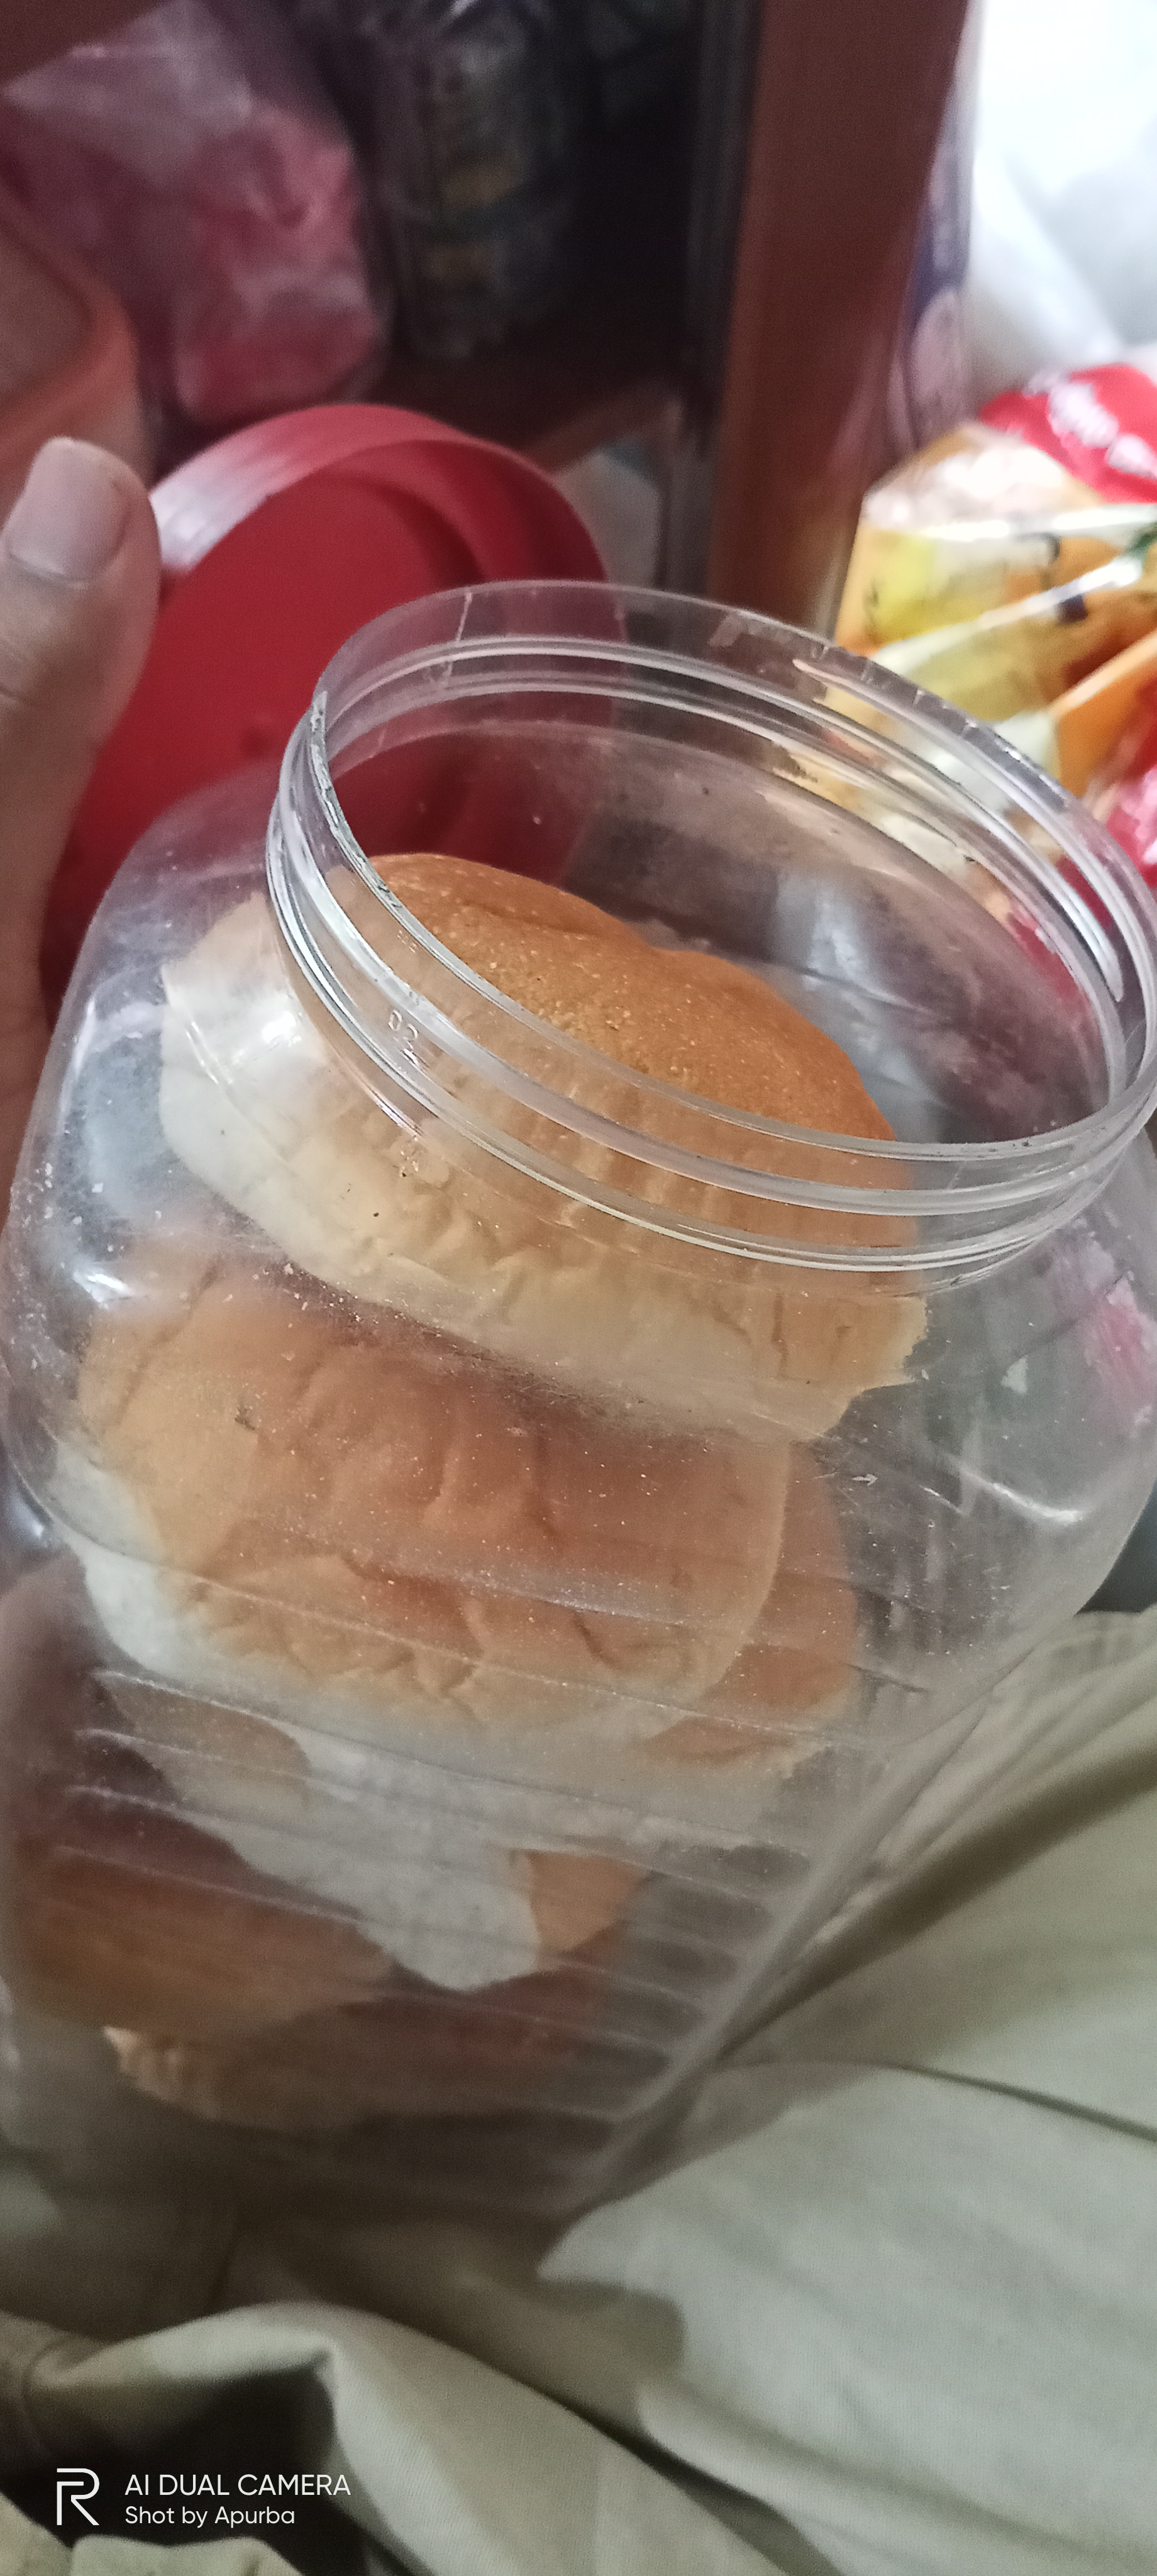food: (0, 835, 940, 2259), (830, 417, 1157, 808)
